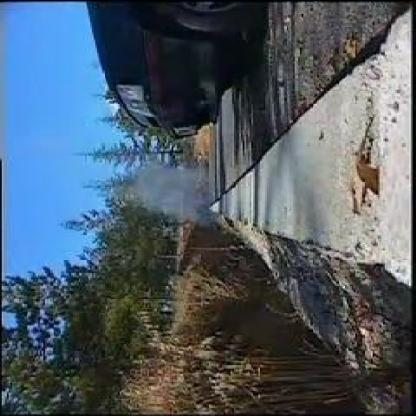-: (140, 164, 214, 225)
